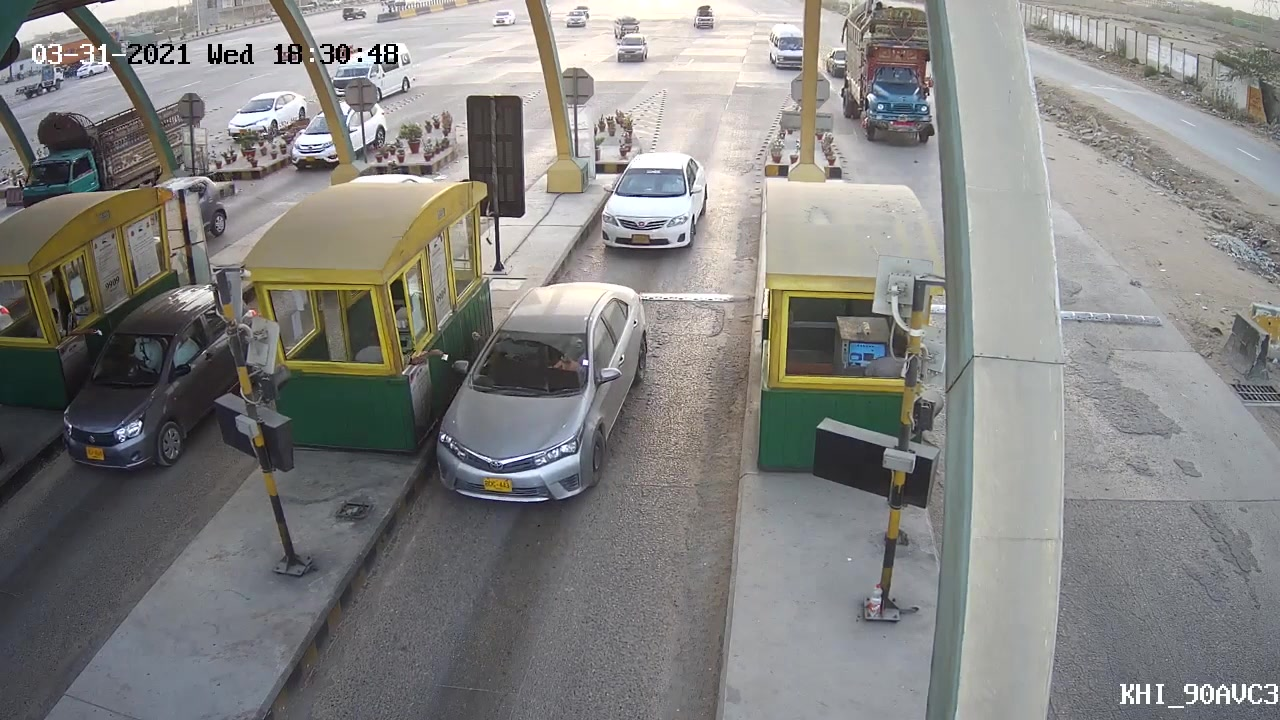F1: (424, 271, 652, 510), (598, 143, 713, 255)
